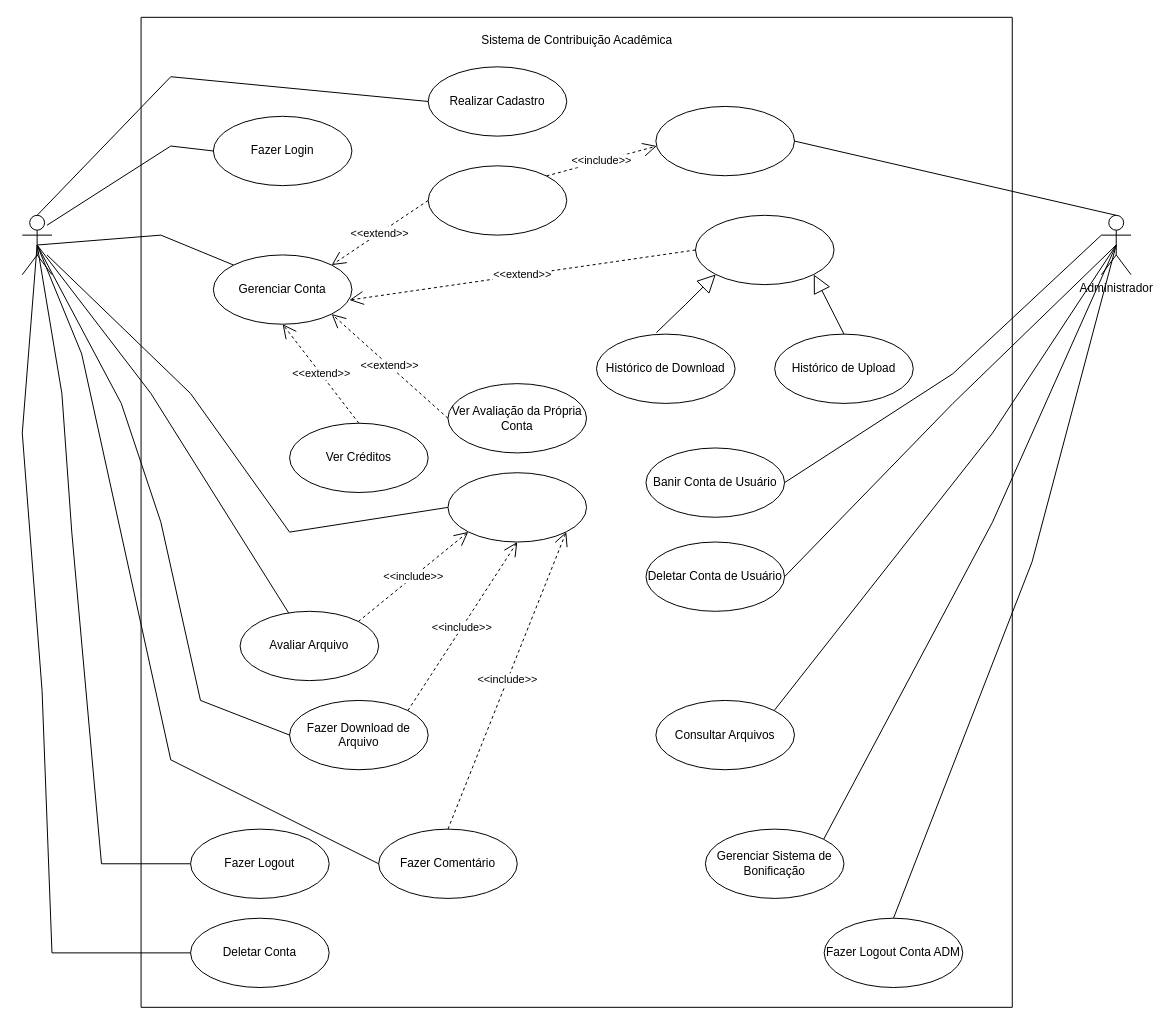
Image size: 1170x1025. Some labels were removed from this diagram. Here are the shapes that lost their labels. From the top down, the box of each, then its label:
(655, 105, 794, 176): Notificar Novo Arquivo no Sistema
(427, 165, 567, 235): Fazer Upload de Arquivos
(21, 214, 52, 275): Usuário
(694, 214, 834, 285): Consultar Histórico
(447, 472, 587, 542): Realizar Busca de Arquivo
